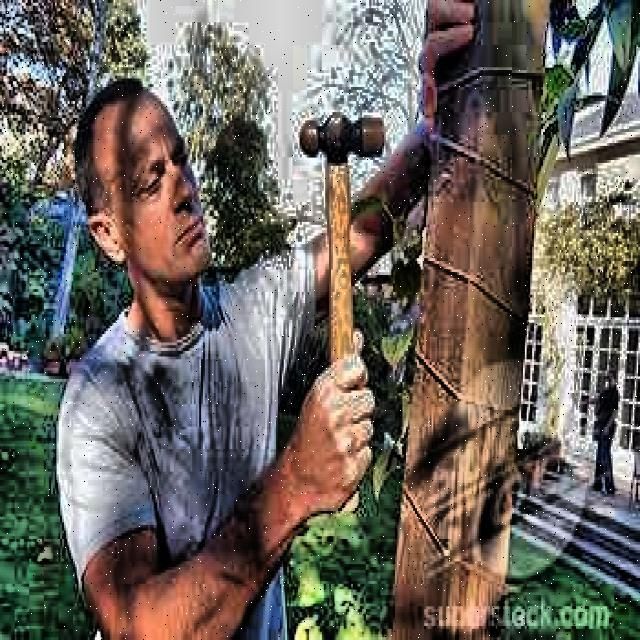hammer: (296, 110, 390, 512)
